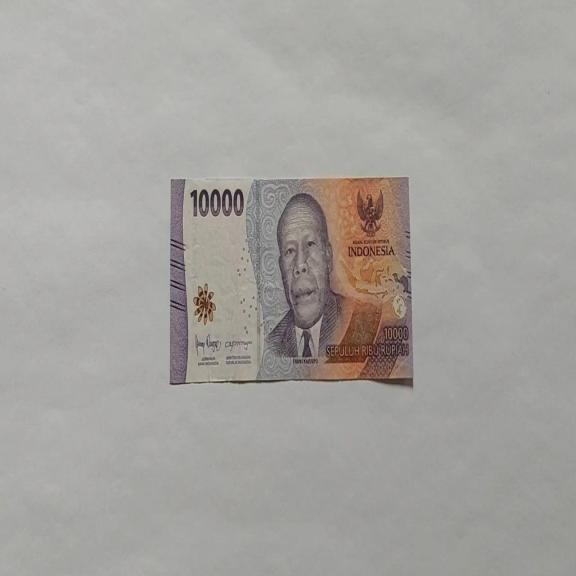Kertas: (169, 174, 413, 385), (189, 186, 244, 218)
